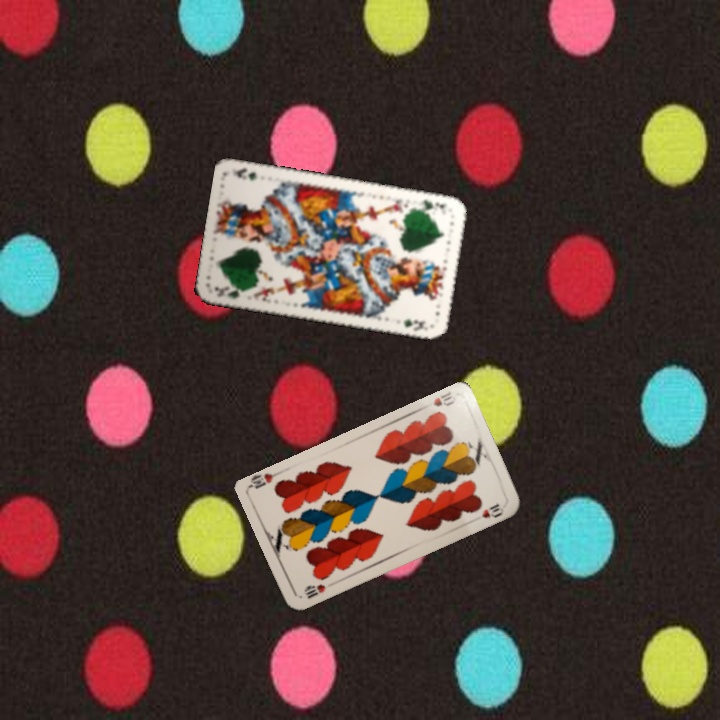GK: (210, 282, 250, 302), (414, 196, 448, 214)
H10: (429, 388, 459, 409), (300, 580, 328, 601)
